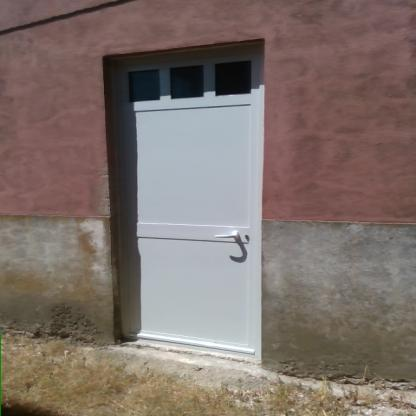closed: (84, 29, 298, 370)
